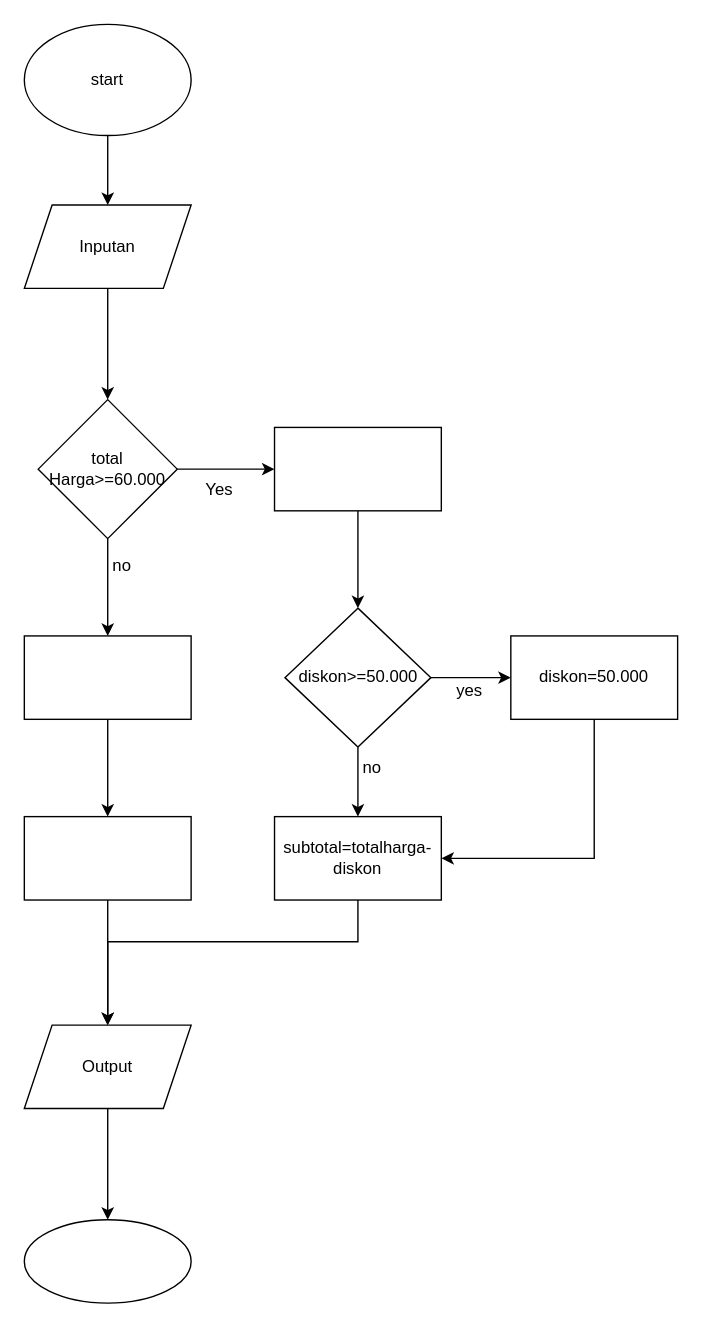
The diagram is 702 pixels wide and 1327 high, and some of its shapes have lost their labels. The shapes that lost their labels are listed below. From the top down, each one's centre as x and y in pixels, then its label:
At point 357,468: "diskon=35/100 * total Harga".
At point 107,677: "diskon=0".
At point 107,857: "subtotal=totalharga".
At point 107,1260: "end".
